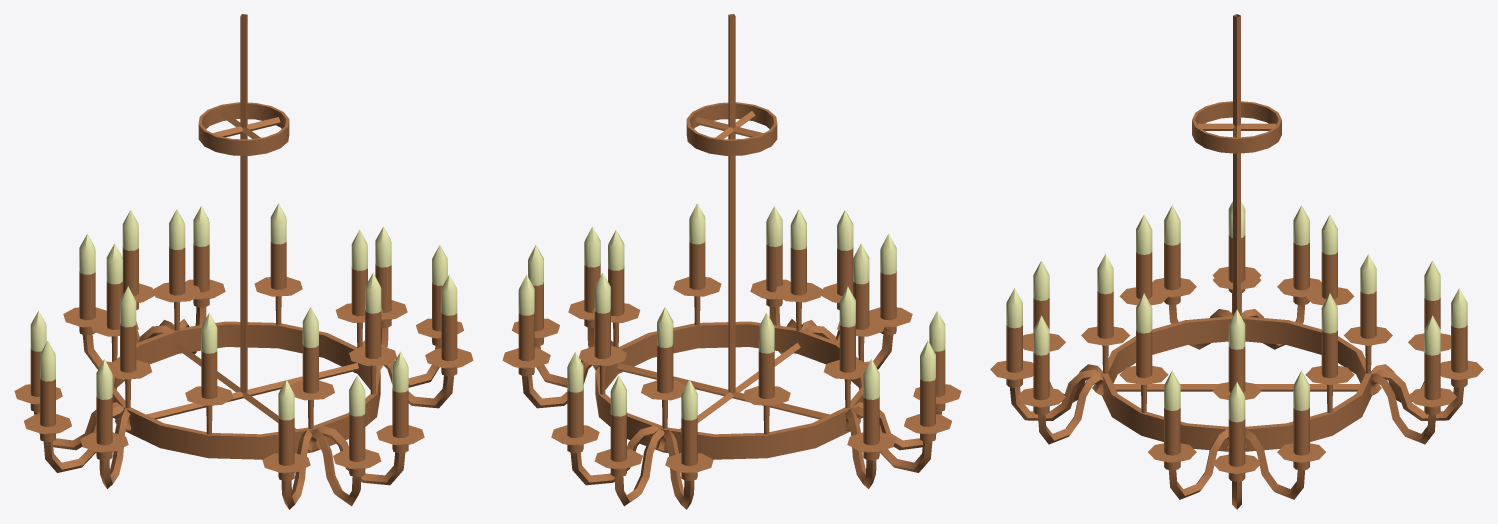
The model's file is lustre_mesh.fbx.
The picture shows the model from 3 angles, left to right: view 1: azimuth 30°, elevation 25°; view 2: azimuth 150°, elevation 25°; view 3: azimuth 270°, elevation 25°; orthographic projection.
Visible parts, largest first — view 1: lustre; view 2: lustre; view 3: lustre.
Boxes of the visible parts, <box> form: lustre: <box>14,14,473,509</box>; lustre: <box>502,14,961,509</box>; lustre: <box>990,14,1483,509</box>.
Size of the model in its own units: 2.41 by 2.18 by 2.41.
